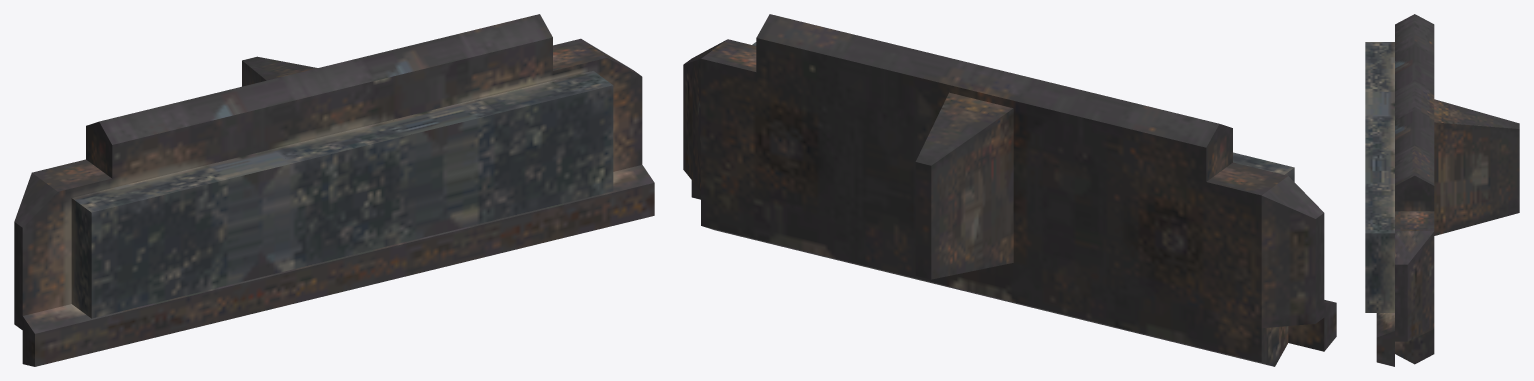
3 renders of one model, left to right at view 1: azimuth 30°, elevation 25°; view 2: azimuth 150°, elevation 25°; view 3: azimuth 270°, elevation 25°, orthographic. The views are drawn at different scales.
Visible parts, largest first — view 1: set_0_group_0; view 2: set_0_group_0; view 3: set_0_group_0.
Part boxes in pixels (x1=…): set_0_group_0: x1=14, y1=14, x2=654, y2=366; set_0_group_0: x1=683, y1=14, x2=1336, y2=366; set_0_group_0: x1=1365, y1=14, x2=1519, y2=366.
Bounding box in the file's own units: 0.56 × 0.1943 × 0.1609.
Materials: 1 (1 with a texture image).
